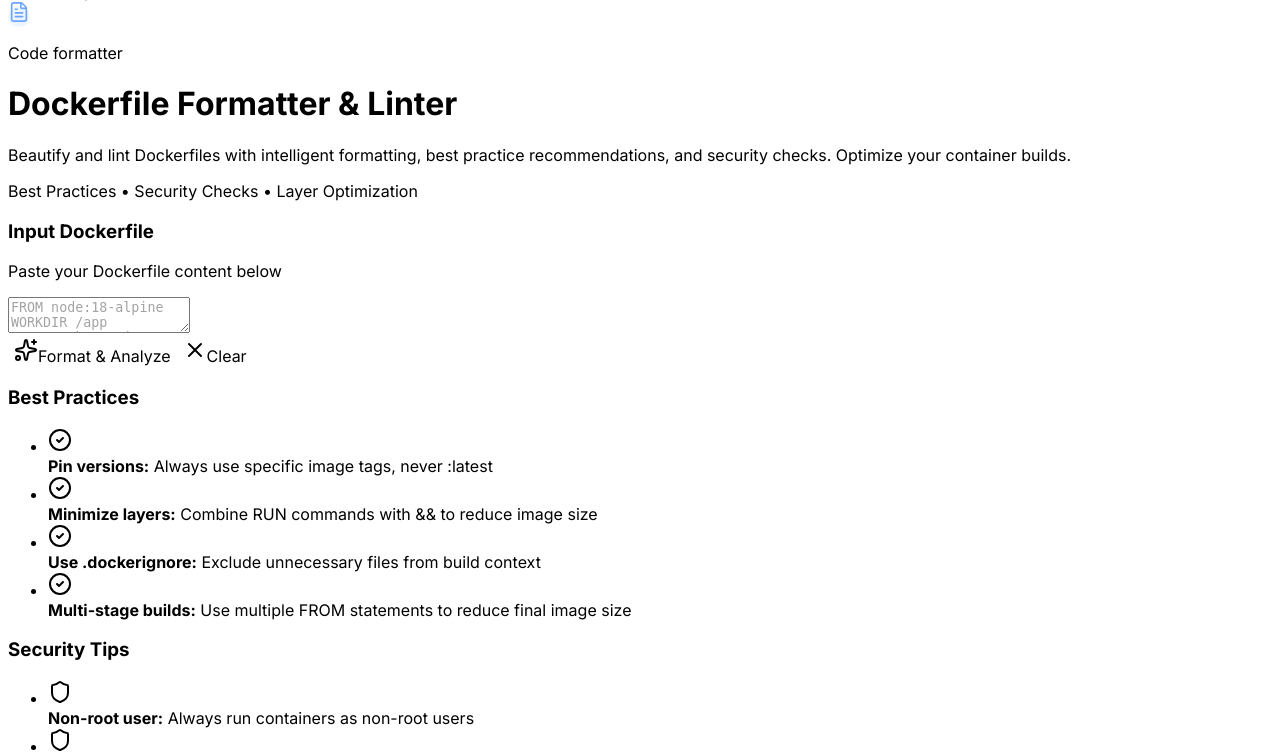
Scenario: Dockerfile Formatter - Logic Tests › should format simple dockerfile
Replace the text in the text box with placeholder "FROM node:18-alpine" with "FROM node:18 WORKDIR /app COPY package.json . RUN npm install EXPOSE 3000 CMD [\"npm\", \"start\"]" at (99, 315), box [8,297,190,333]
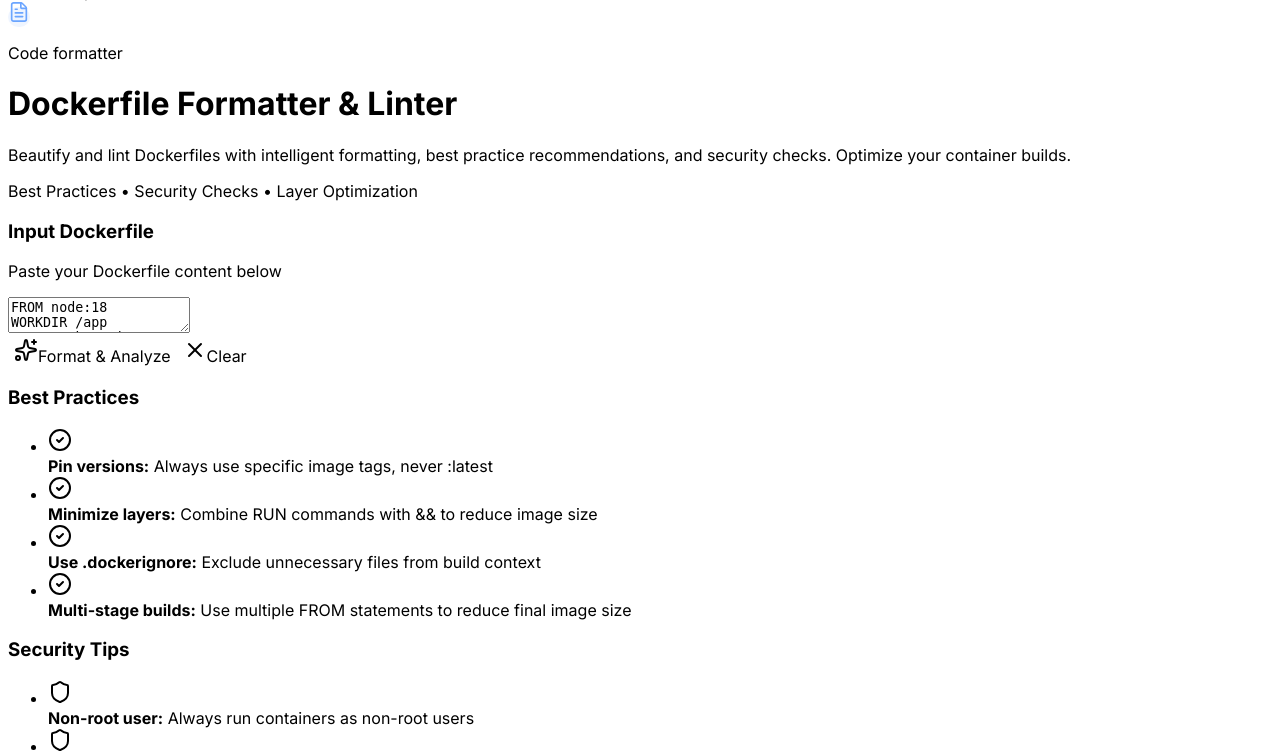
Click the button "Format & Analyze" at (92, 352), box [8,337,177,367]
(page scrolled)
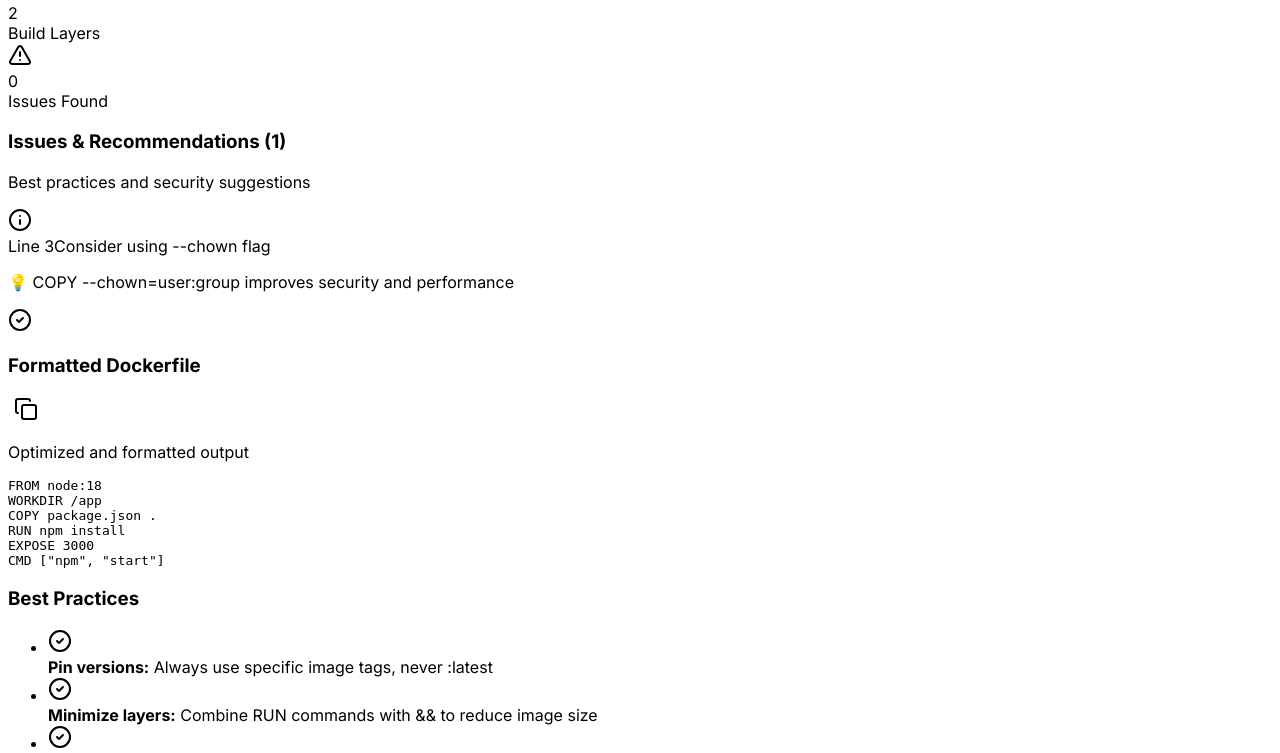
Expected: the heading "Formatted Dockerfile" is shown, [8,354,201,378]
